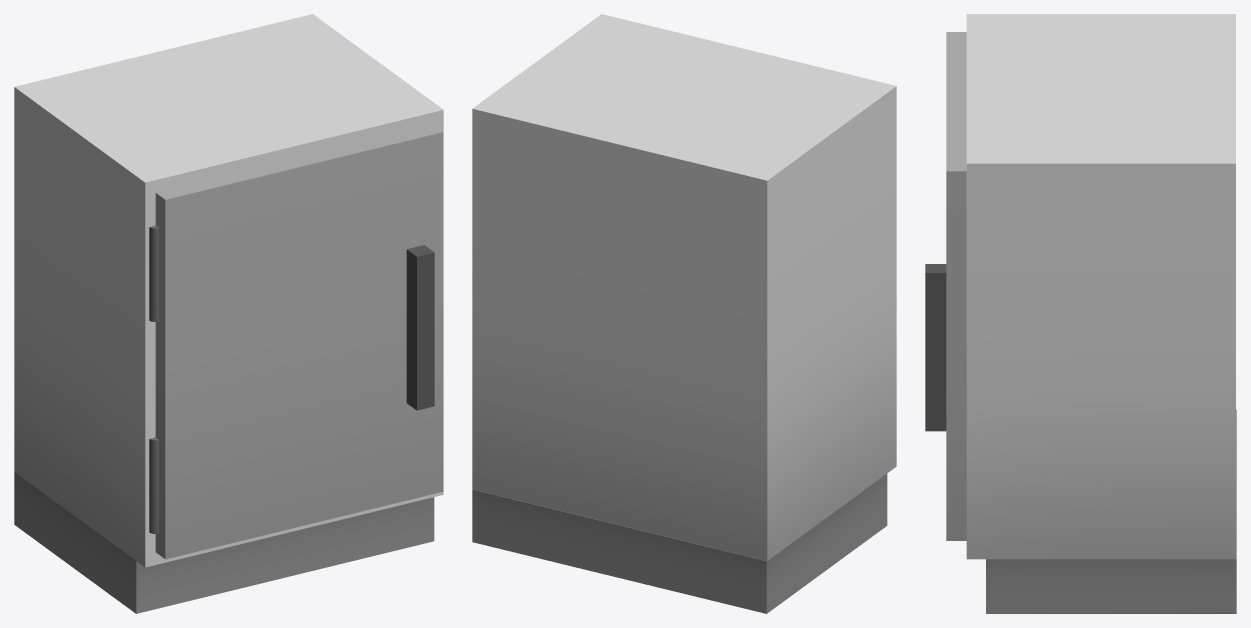
The model's file is Chest4.FBX.
3 renders of one model, left to right at view 1: azimuth 30°, elevation 25°; view 2: azimuth 150°, elevation 25°; view 3: azimuth 270°, elevation 25°, orthographic. The views are drawn at different scales.
Parts seen in each view (by area): view 1: chestbox4, Object003; view 2: chestbox4; view 3: chestbox4, Object003.
Part boxes in pixels (bbox=[...]): chestbox4: bbox=[14, 14, 443, 613]; Object003: bbox=[149, 125, 443, 559]; chestbox4: bbox=[472, 14, 896, 613]; chestbox4: bbox=[966, 14, 1236, 613]; Object003: bbox=[925, 32, 966, 540].
Size of the model in its own units: 19.21 by 26.94 by 16.89.
2 materials, 2 textured.
